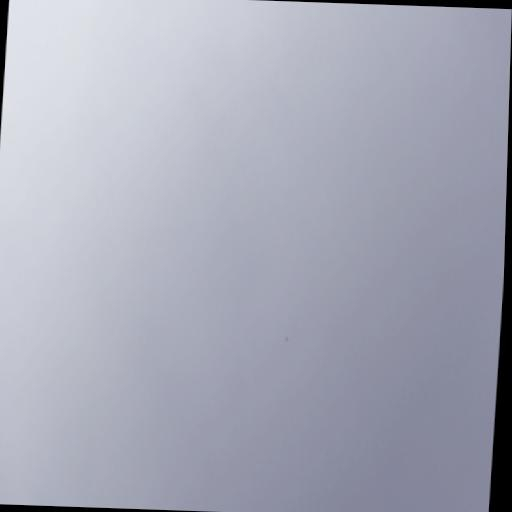drones: (283, 334, 290, 344)
